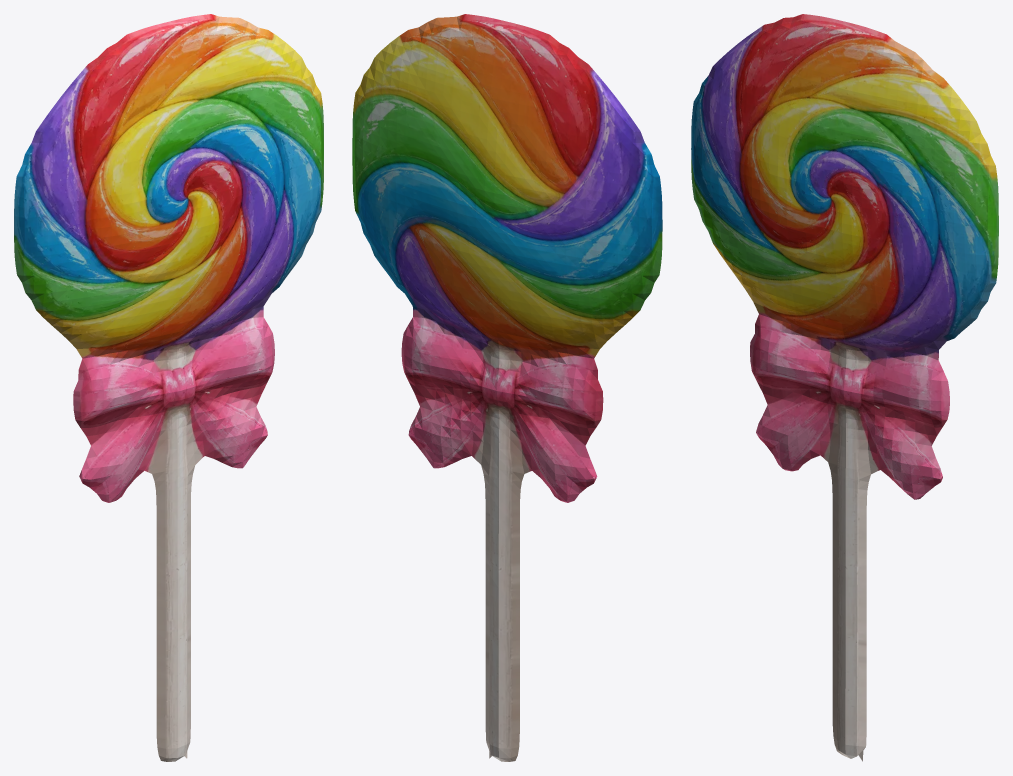
File: giant_lollipop.glb
The picture shows the model from 3 angles, left to right: view 1: azimuth 30°, elevation 25°; view 2: azimuth 150°, elevation 25°; view 3: azimuth 330°, elevation 25°; orthographic projection.
Visible parts, largest first — view 1: geometry_0; view 2: geometry_0; view 3: geometry_0.
Part boxes in pixels (x1=…): geometry_0: x1=14, y1=14, x2=323, y2=761; geometry_0: x1=352, y1=14, x2=662, y2=761; geometry_0: x1=691, y1=14, x2=998, y2=761.
Size of the model in its own units: 0.4292 by 0.9812 by 0.0844.
Materials: 1 (1 with a texture image).
